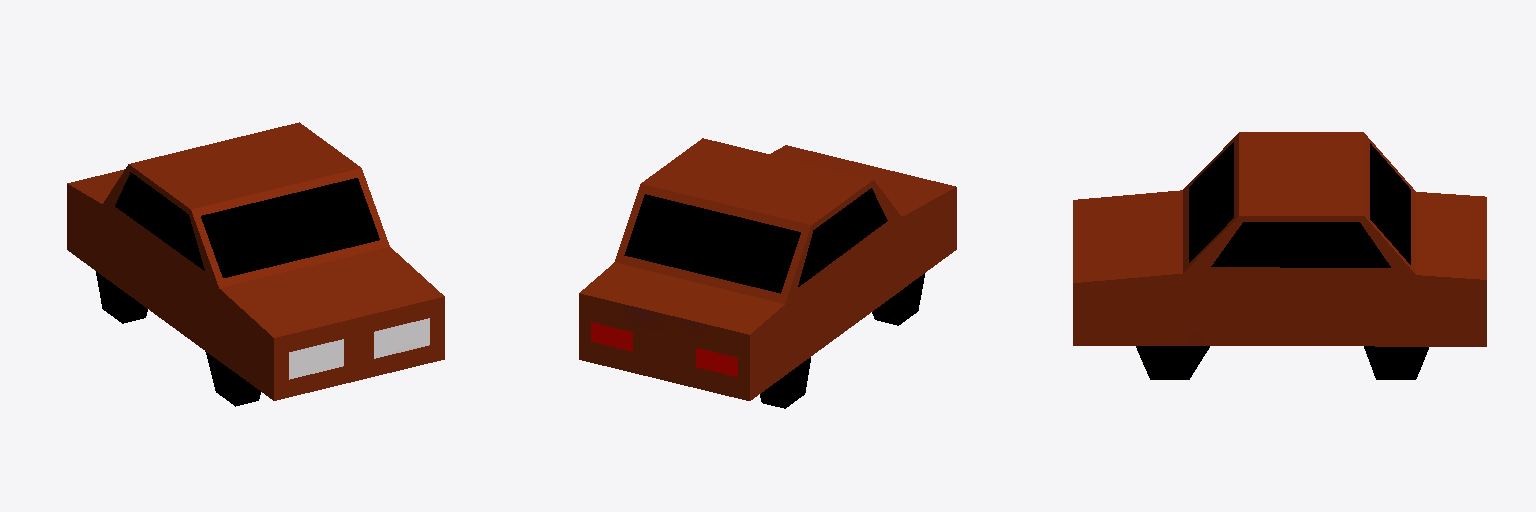
3 views of the same model, side by side, from view 1: azimuth 30°, elevation 25°; view 2: azimuth 150°, elevation 25°; view 3: azimuth 270°, elevation 25° (orthographic).
Parts seen in each view (by area): view 1: Car.001; view 2: Car.001; view 3: Car.001.
Boxes of the visible parts, x1=… form: Car.001: x1=67, y1=122, x2=444, y2=406; Car.001: x1=579, y1=138, x2=956, y2=408; Car.001: x1=1073, y1=132, x2=1486, y2=379.
Size of the model in its own units: 0.2947 by 0.2709 by 0.6185.
Materials: 1 (1 with a texture image).